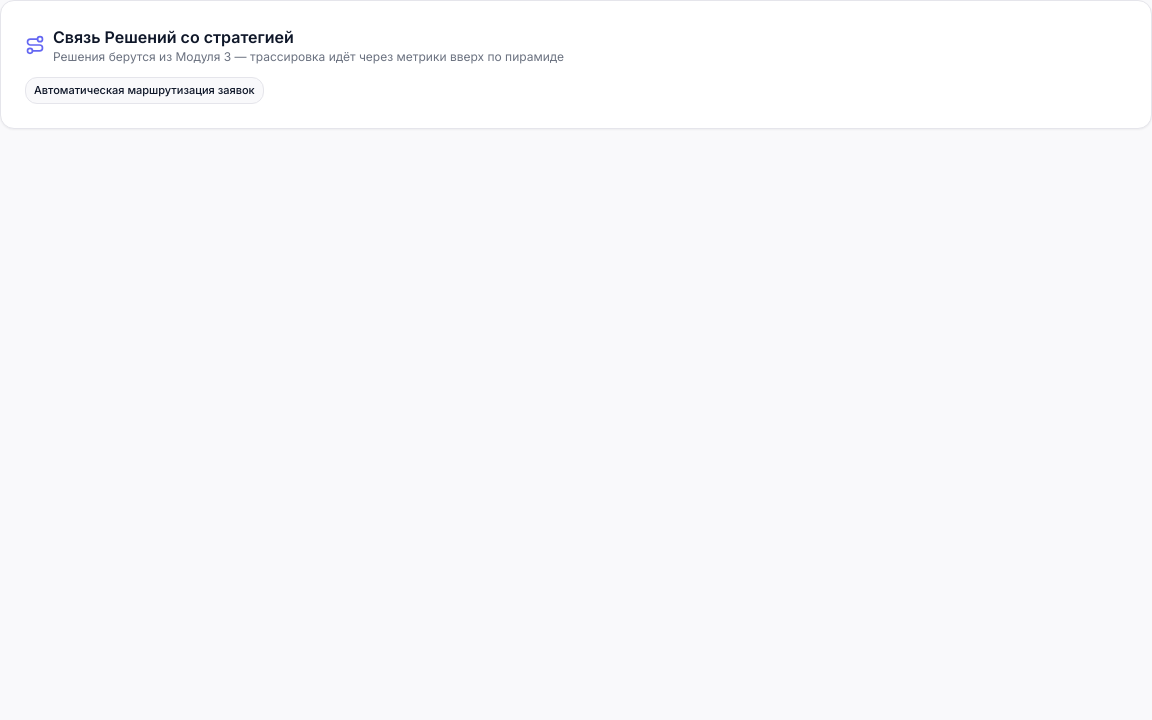
SolutionTrace · автоподстановка опережающей метрики Решения › автоподстановка не блокирует ручной выбор другой метрики
Click the button with test id "trace-solution-kr-0:0".
click(144, 90)  # box 25,77 -> 264,104
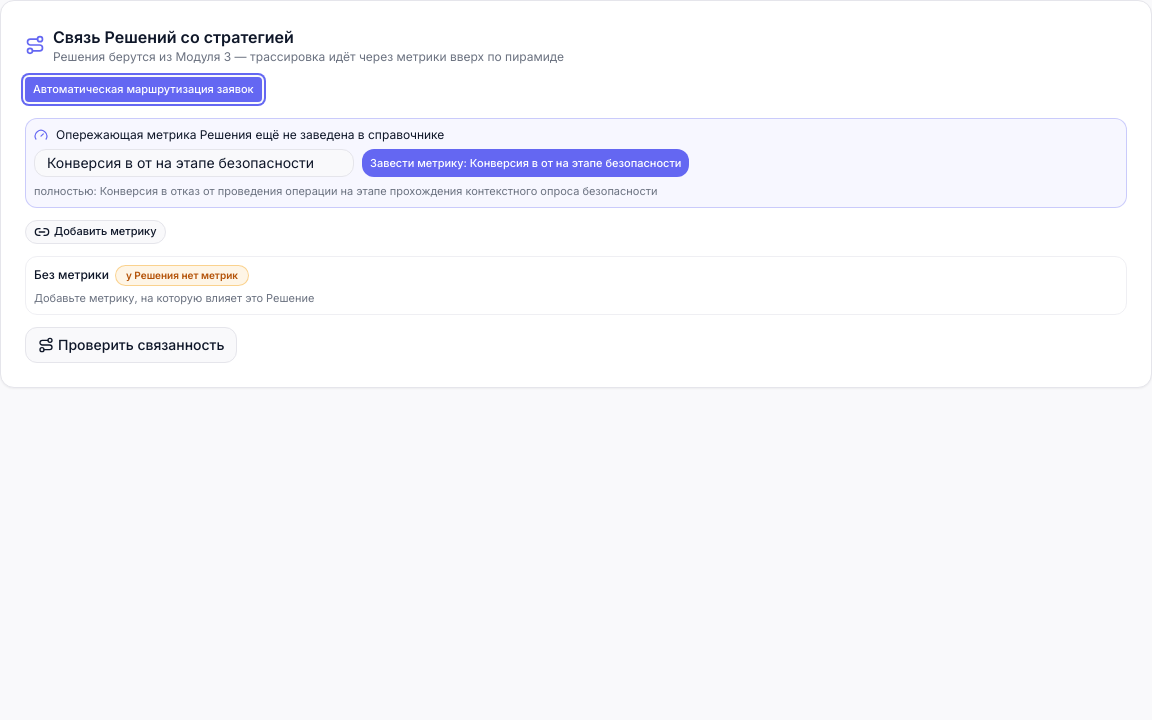
Expected: the element with test id "trace-new-metric" is shown, 25,118 -> 1127,208
Click the button "Добавить метрику".
click(95, 232)  # box 25,220 -> 166,244
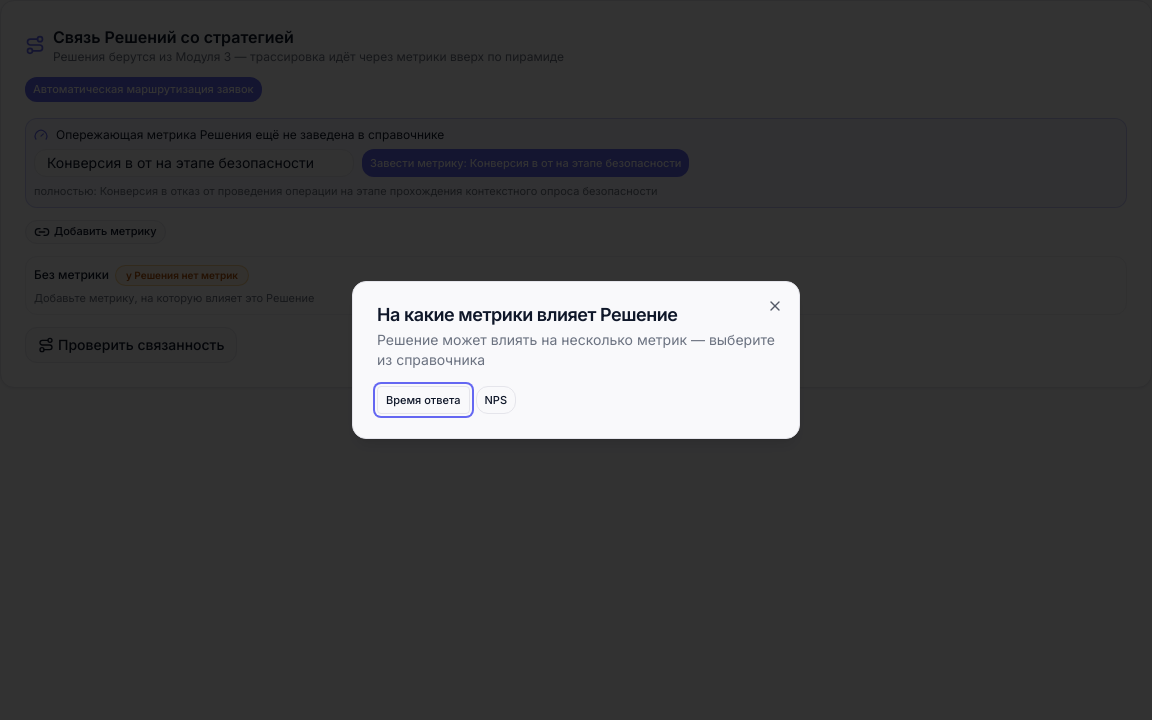
Click the button "NPS".
click(496, 400)  # box 476,386 -> 516,414
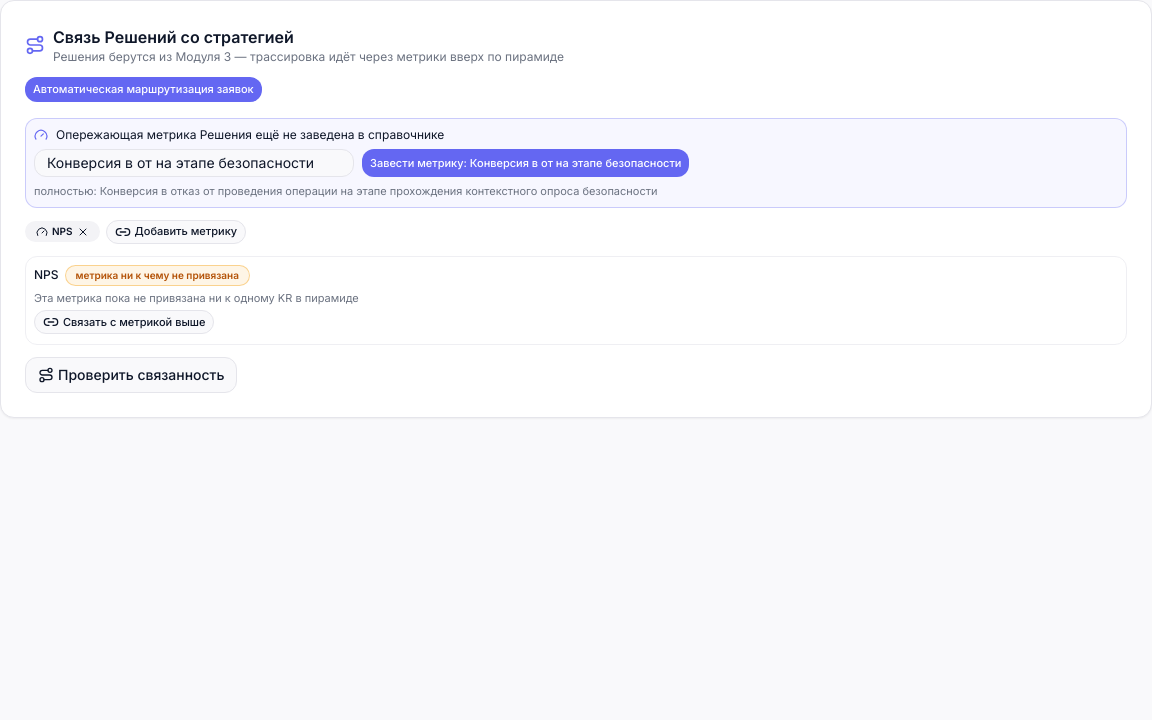
Expected: the list item with test id "trace-chain-m2" is shown, 25,256 -> 1127,345
